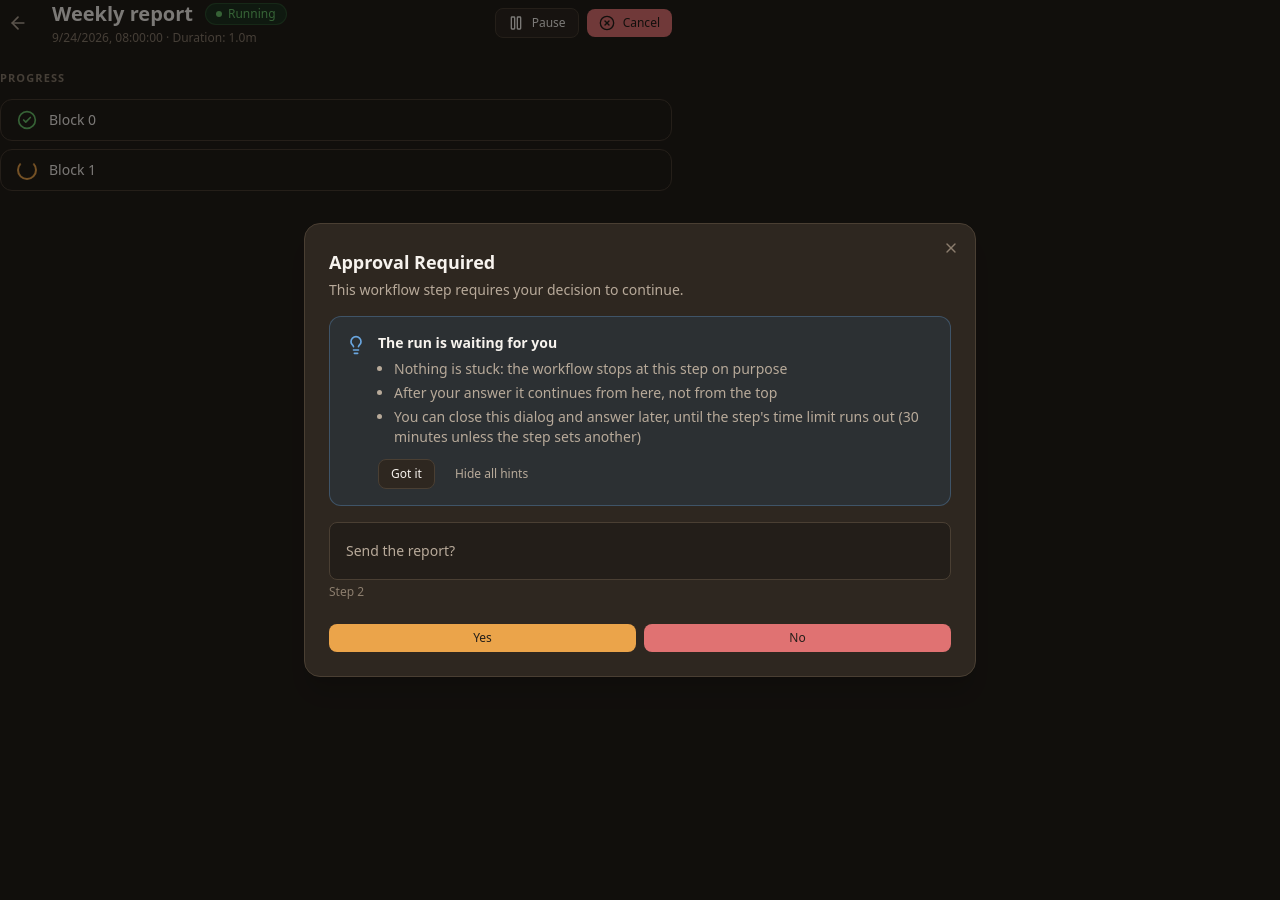
it: SimpleWorkflowExecution approval › shows a waiting approval, sends nothing on X, opens it again from its button and answers with {answer}
Expected: the dialog shows "Send the report?", [346, 541, 455, 560]
Click the button named "Close" at (951, 248), box [939, 236, 963, 260]
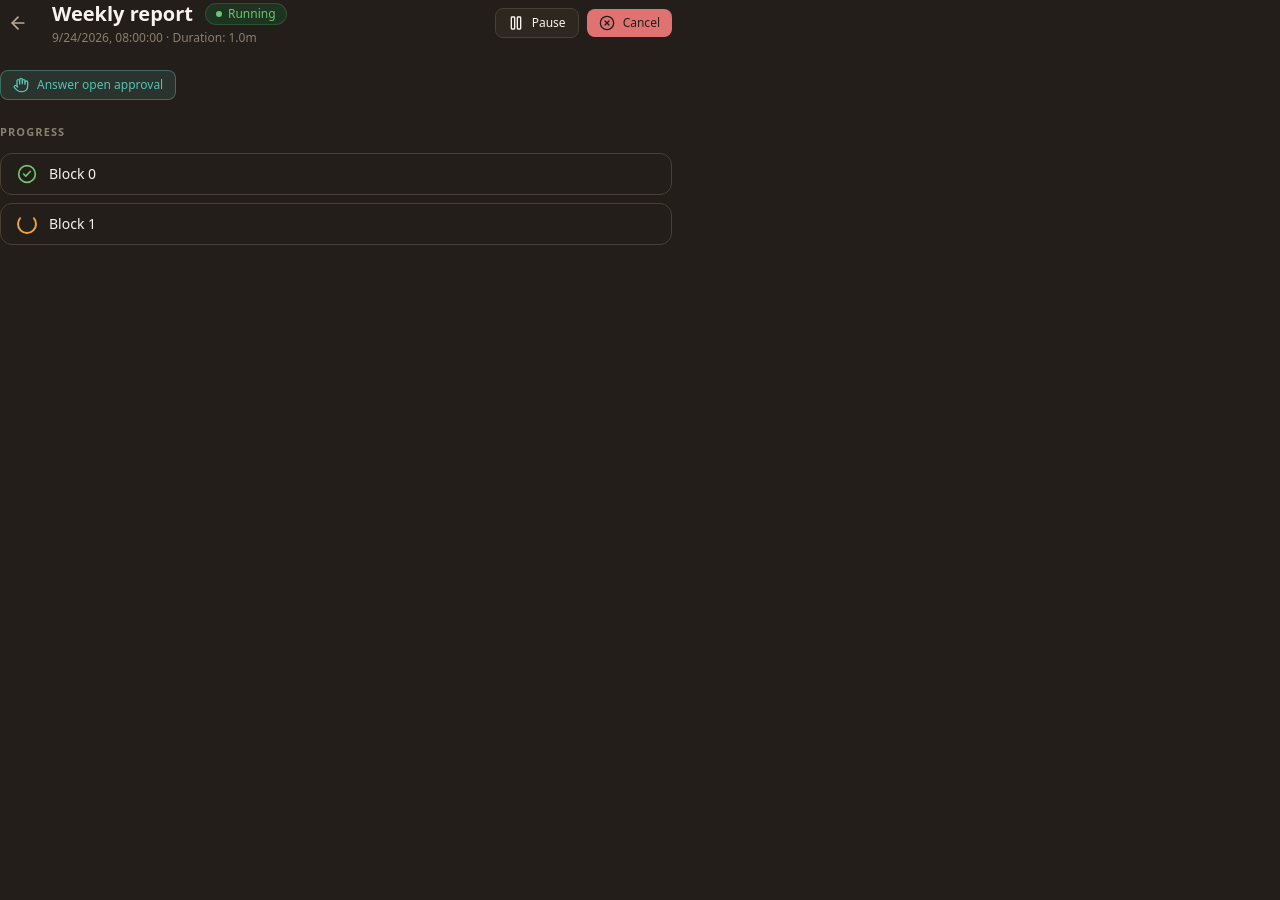
Expected: the dialog is gone
Click the button "Answer open approval" at (88, 85), box [0, 70, 176, 100]
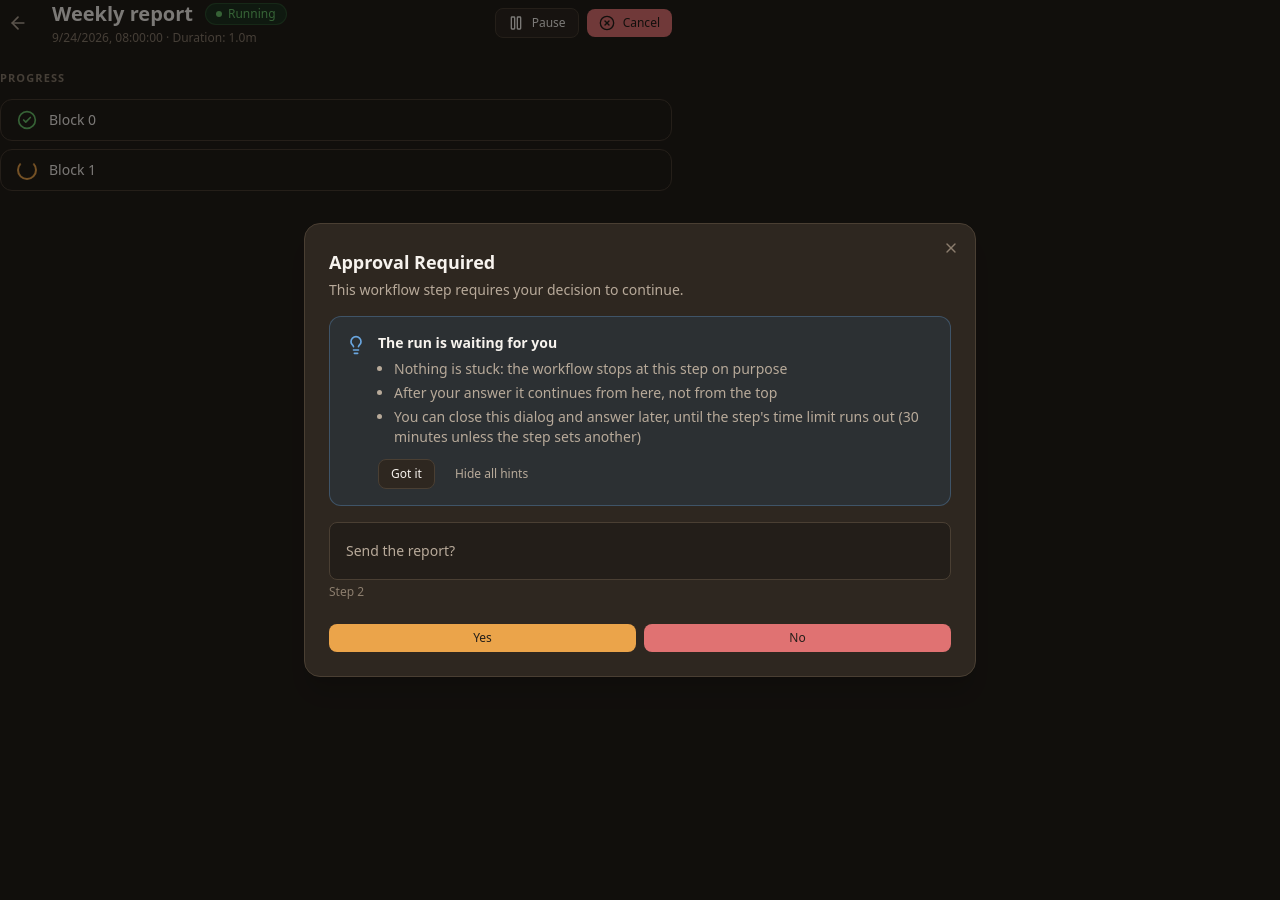
Click the button "Yes" at (482, 638), box [329, 624, 636, 652]
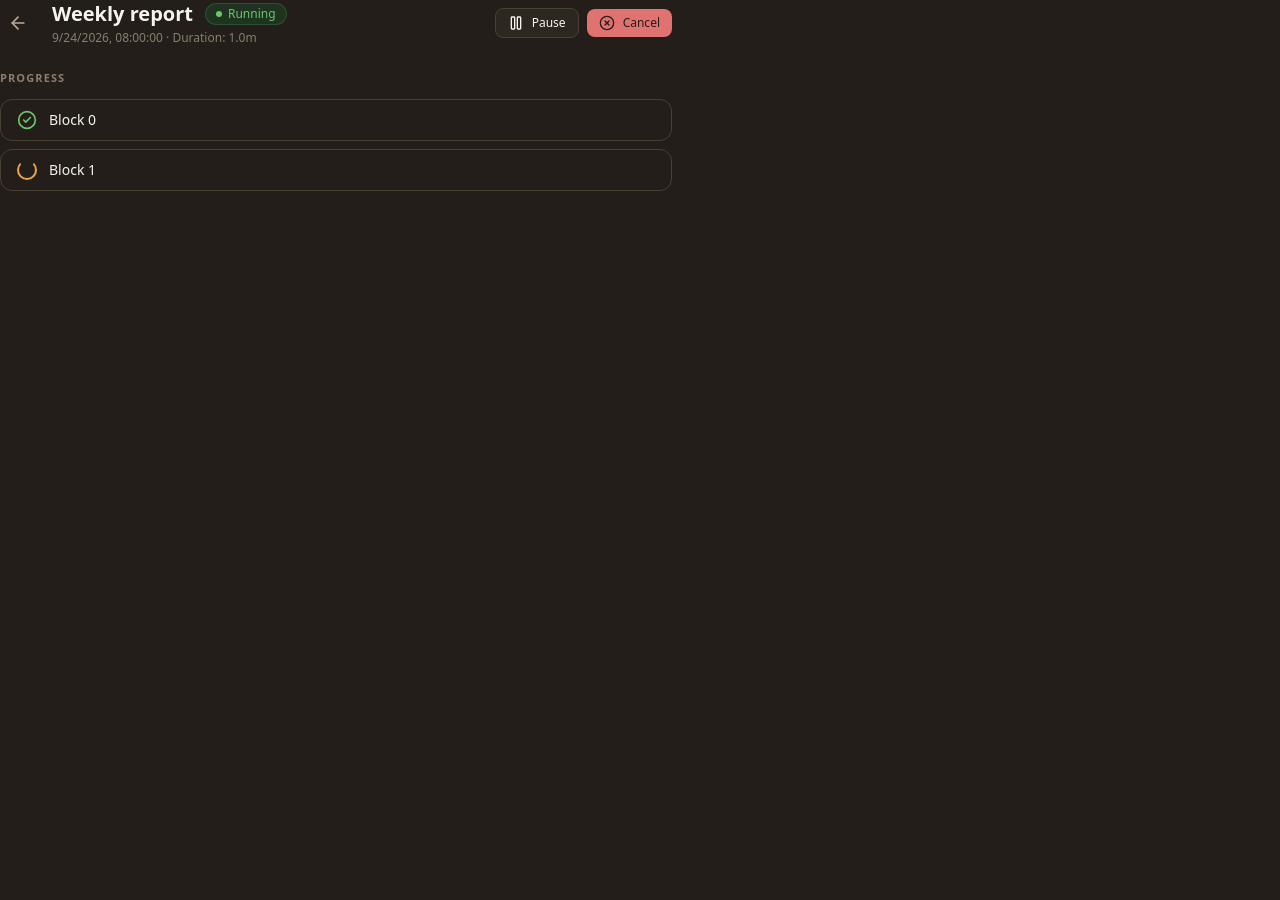
Expected: the button "Answer open approval" is not shown
Expected: the dialog is gone
